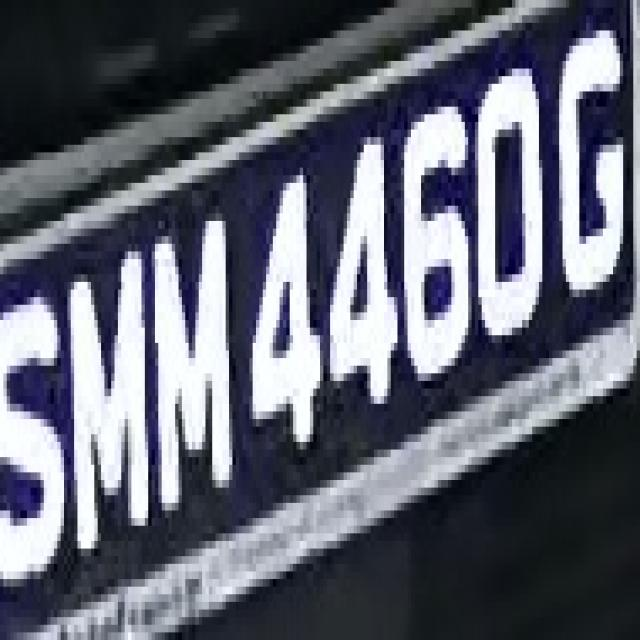0: (465, 46, 549, 366)
4: (239, 160, 337, 472), (313, 138, 401, 472)
6: (398, 76, 482, 419)
G: (556, 8, 633, 342)
M: (61, 221, 155, 571), (152, 198, 236, 533)
